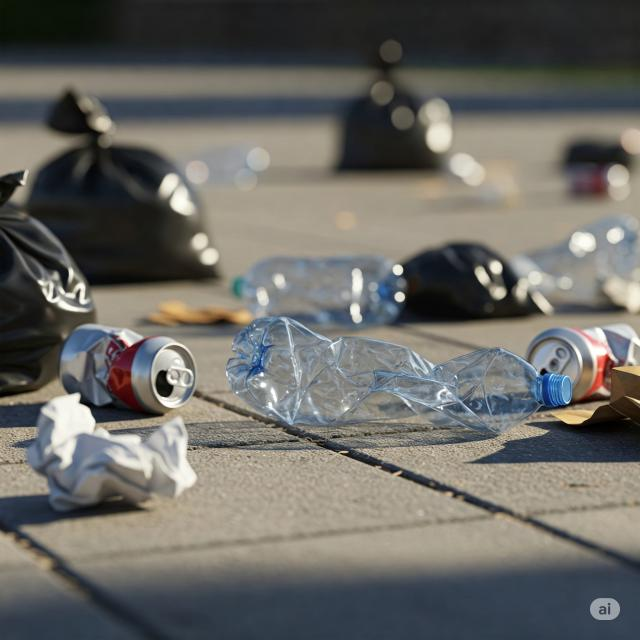aluminum: (61, 312, 199, 415), (530, 322, 639, 400)
paper: (37, 397, 195, 512)
plastic: (233, 318, 566, 436)
